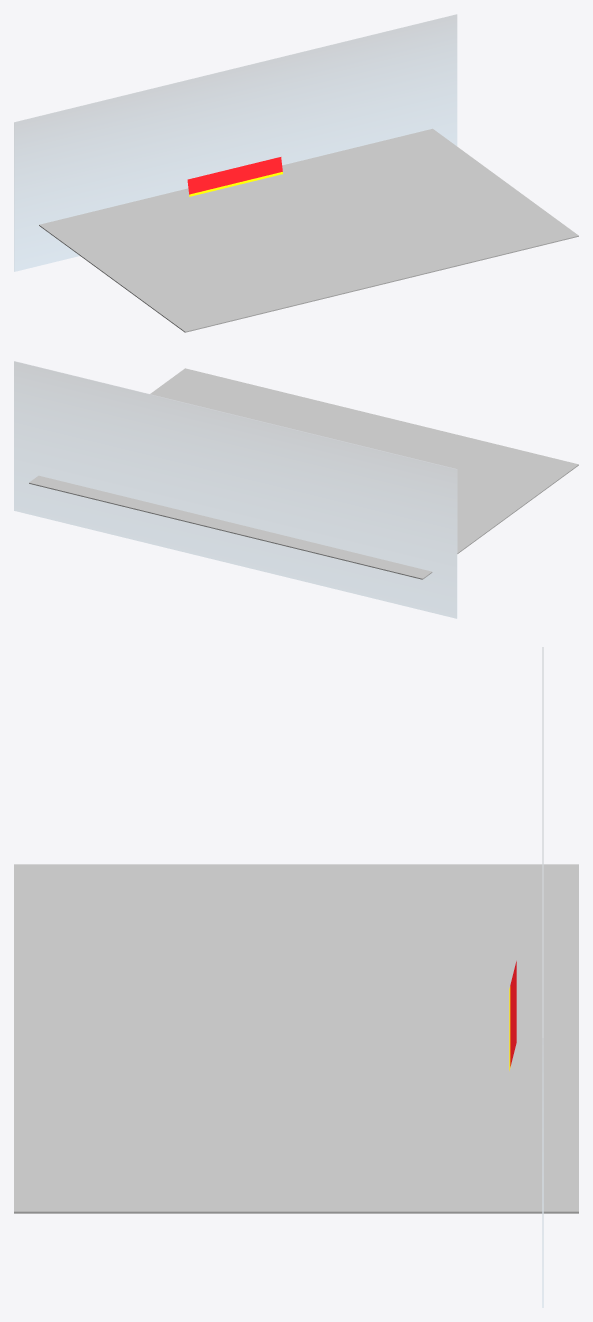
Rendered from f_spain.glb.
3 renders of one model, top to bottom at view 1: azimuth 30°, elevation 25°; view 2: azimuth 150°, elevation 25°; view 3: azimuth 270°, elevation 25°, orthographic. The views are drawn at different scales.
Parts seen in each view (by area): view 1: Ground contact / transparent shadow receiver.052, Sky gradient / editable material.052, Flag cloth / full-bleed source fields.024; view 2: Sky gradient / editable material.052, Ground contact / transparent shadow receiver.052; view 3: Ground contact / transparent shadow receiver.052, Sky gradient / editable material.052.
Part boxes in pixels (box(x1,y1,x2,y2)): Ground contact / transparent shadow receiver.052: box(39, 128, 578, 332); Sky gradient / editable material.052: box(14, 14, 457, 271); Flag cloth / full-bleed source fields.024: box(187, 157, 282, 196); Sky gradient / editable material.052: box(14, 361, 457, 618); Ground contact / transparent shadow receiver.052: box(29, 368, 578, 579); Ground contact / transparent shadow receiver.052: box(14, 864, 578, 1213); Sky gradient / editable material.052: box(542, 647, 543, 1307).
Bounding box in the file's own units: 180 × 58 × 110.
